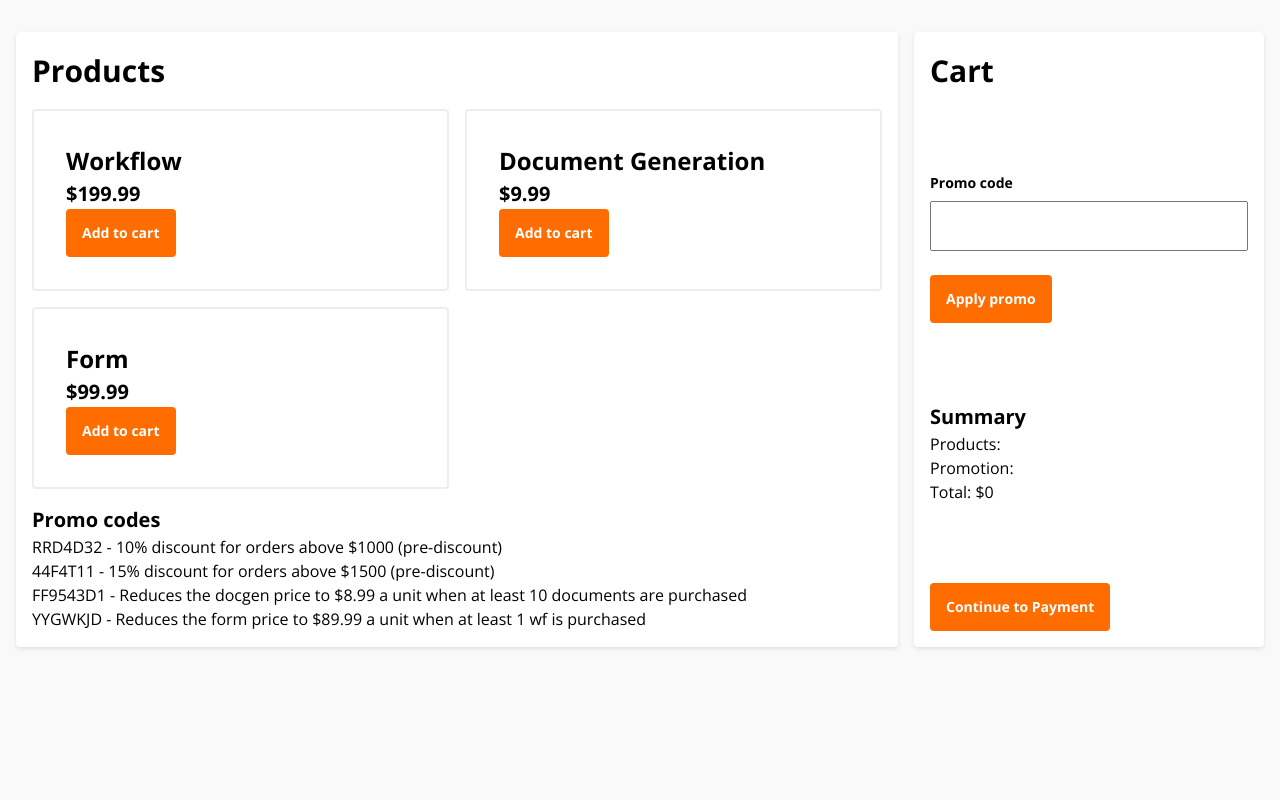
it: Checkout › can apply promo code YYGWKJD for a 89.99 form unit price for 1 wf or more
Click the button "Add to cart" below "$199.99": (121, 233) x1=66 y1=209 x2=176 y2=257
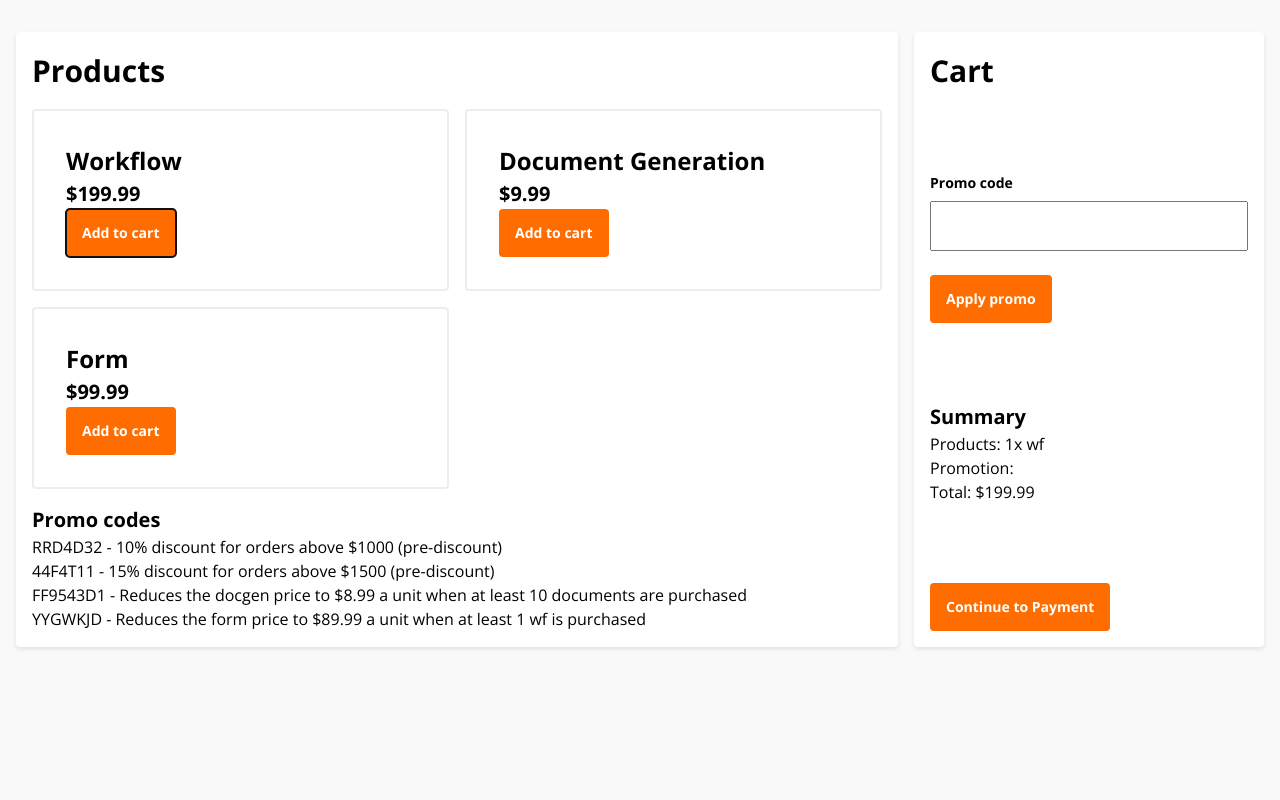
Click the button "Add to cart" below "$99.99": (121, 431) x1=66 y1=407 x2=176 y2=455
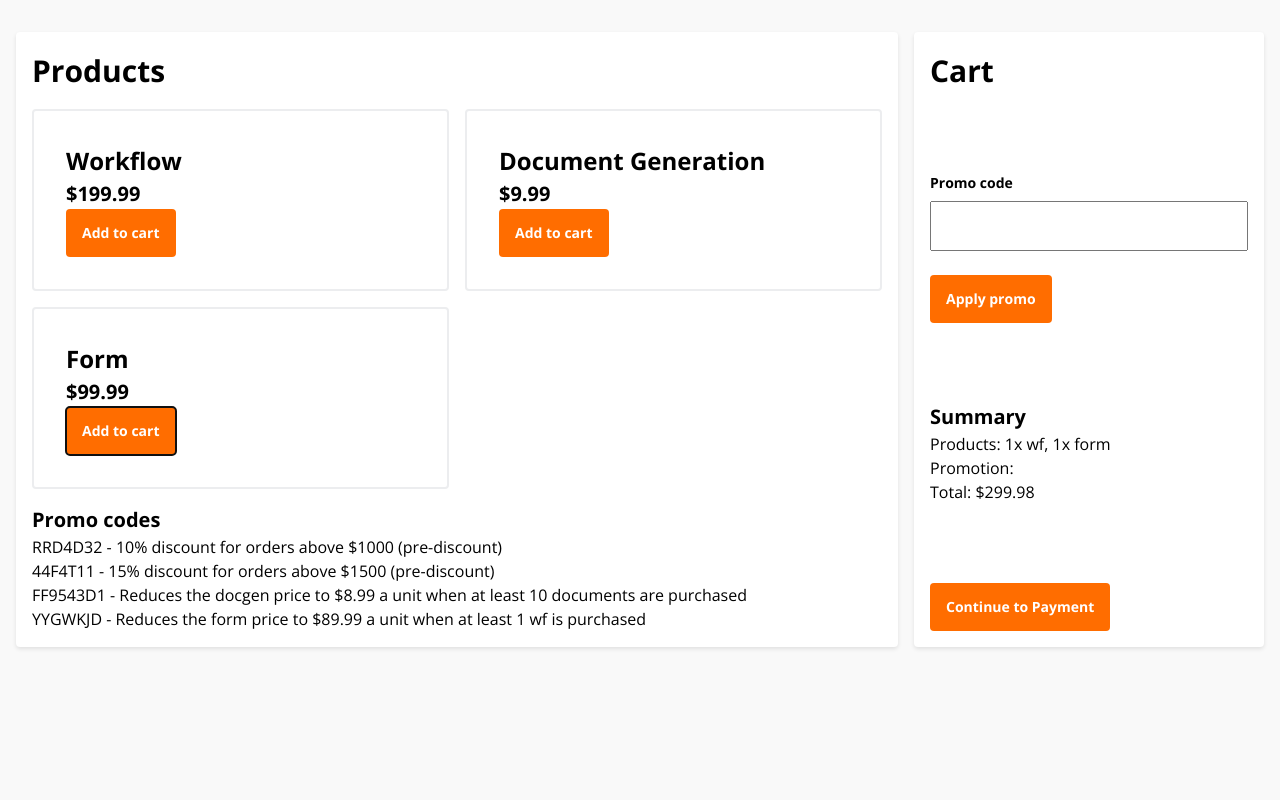
Expected: the text "Total: $299.98" is shown, x1=930 y1=481 x2=1034 y2=503
In the field: (1089, 226) x1=930 y1=201 x2=1248 y2=251, type "YYGWKJD"
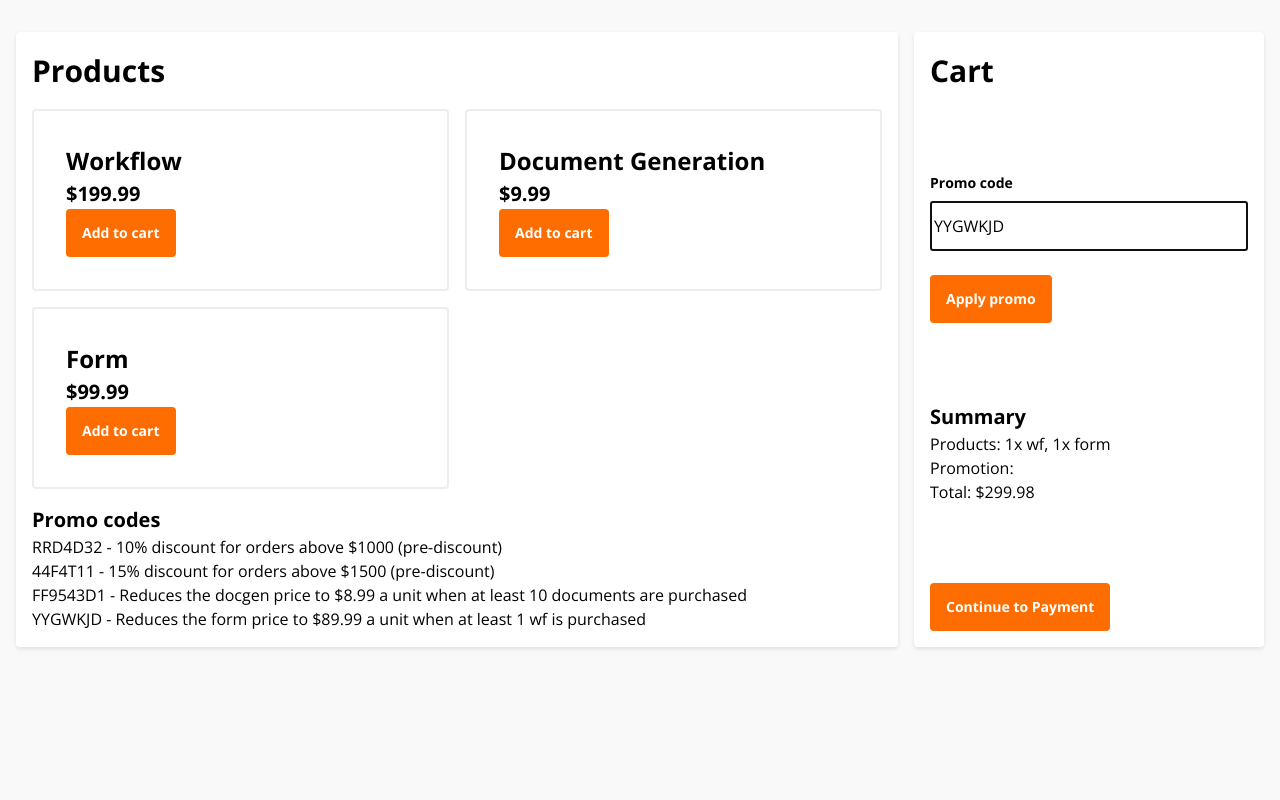
Click the button "Apply promo": (991, 299) x1=930 y1=275 x2=1052 y2=323
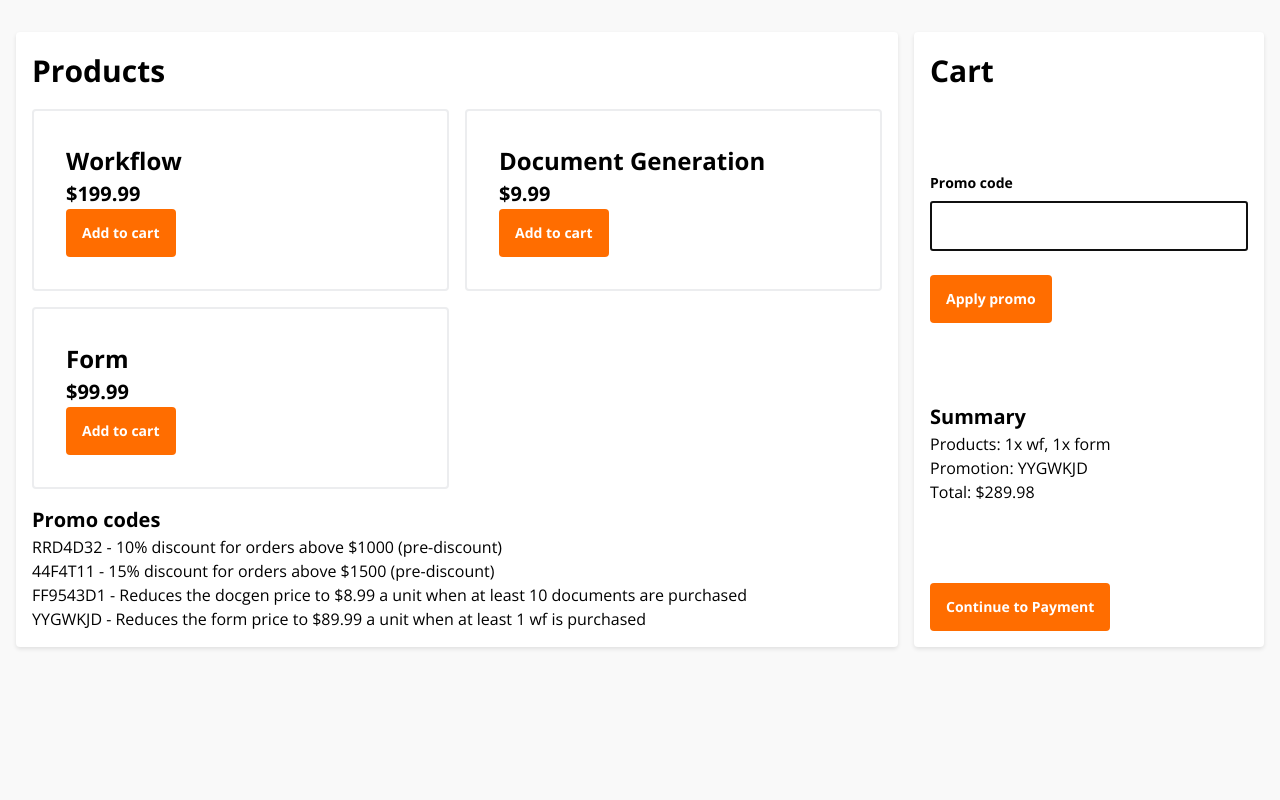
Expected: the text "Total: $289.98" is shown, x1=930 y1=481 x2=1034 y2=503
